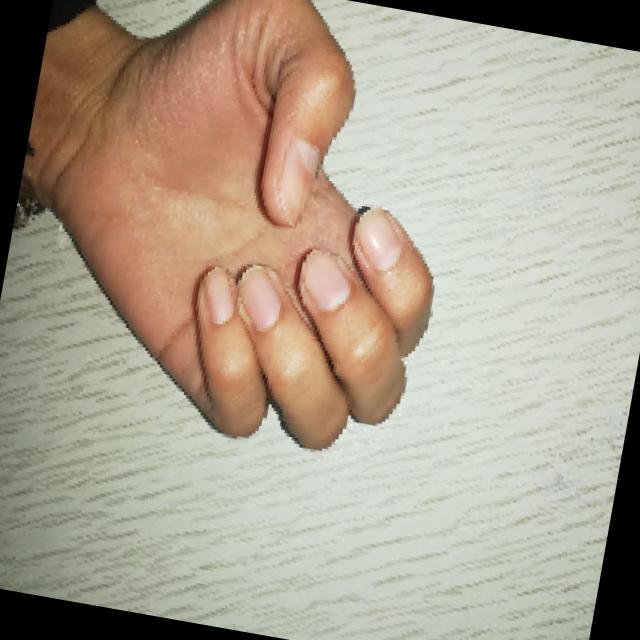Nail: (275, 138, 318, 225), (353, 209, 400, 271), (300, 251, 349, 310), (237, 265, 279, 330), (204, 269, 234, 323)
